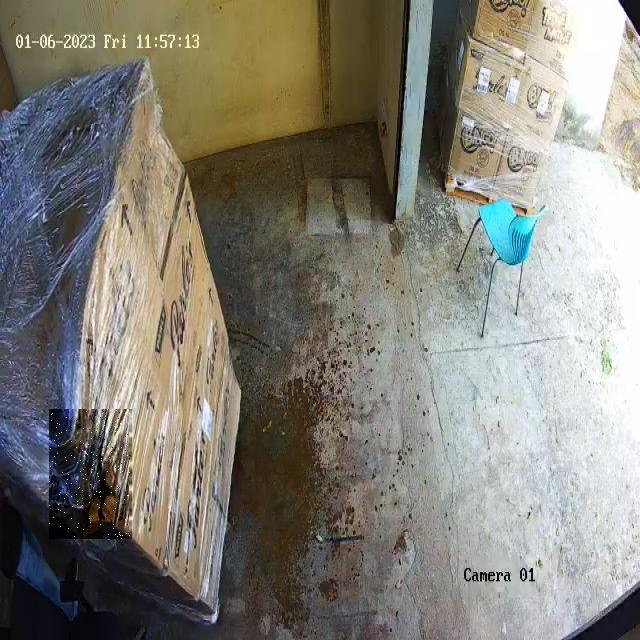squeeze: (50, 409, 130, 539)
